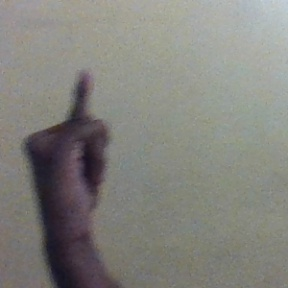I: (25, 63, 114, 224)
